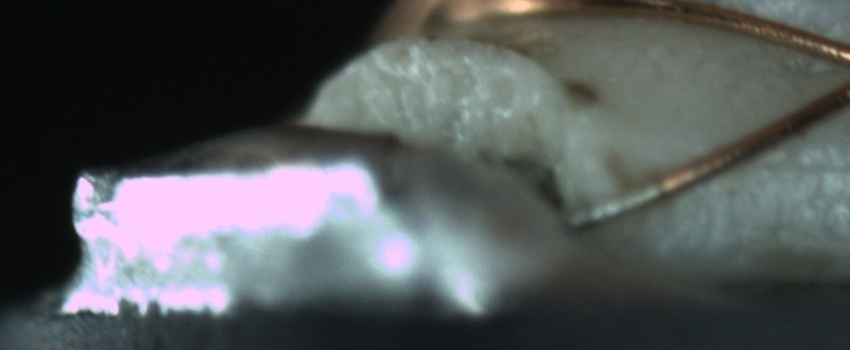DL: (750, 132, 850, 199)
TS: (563, 178, 660, 230)
